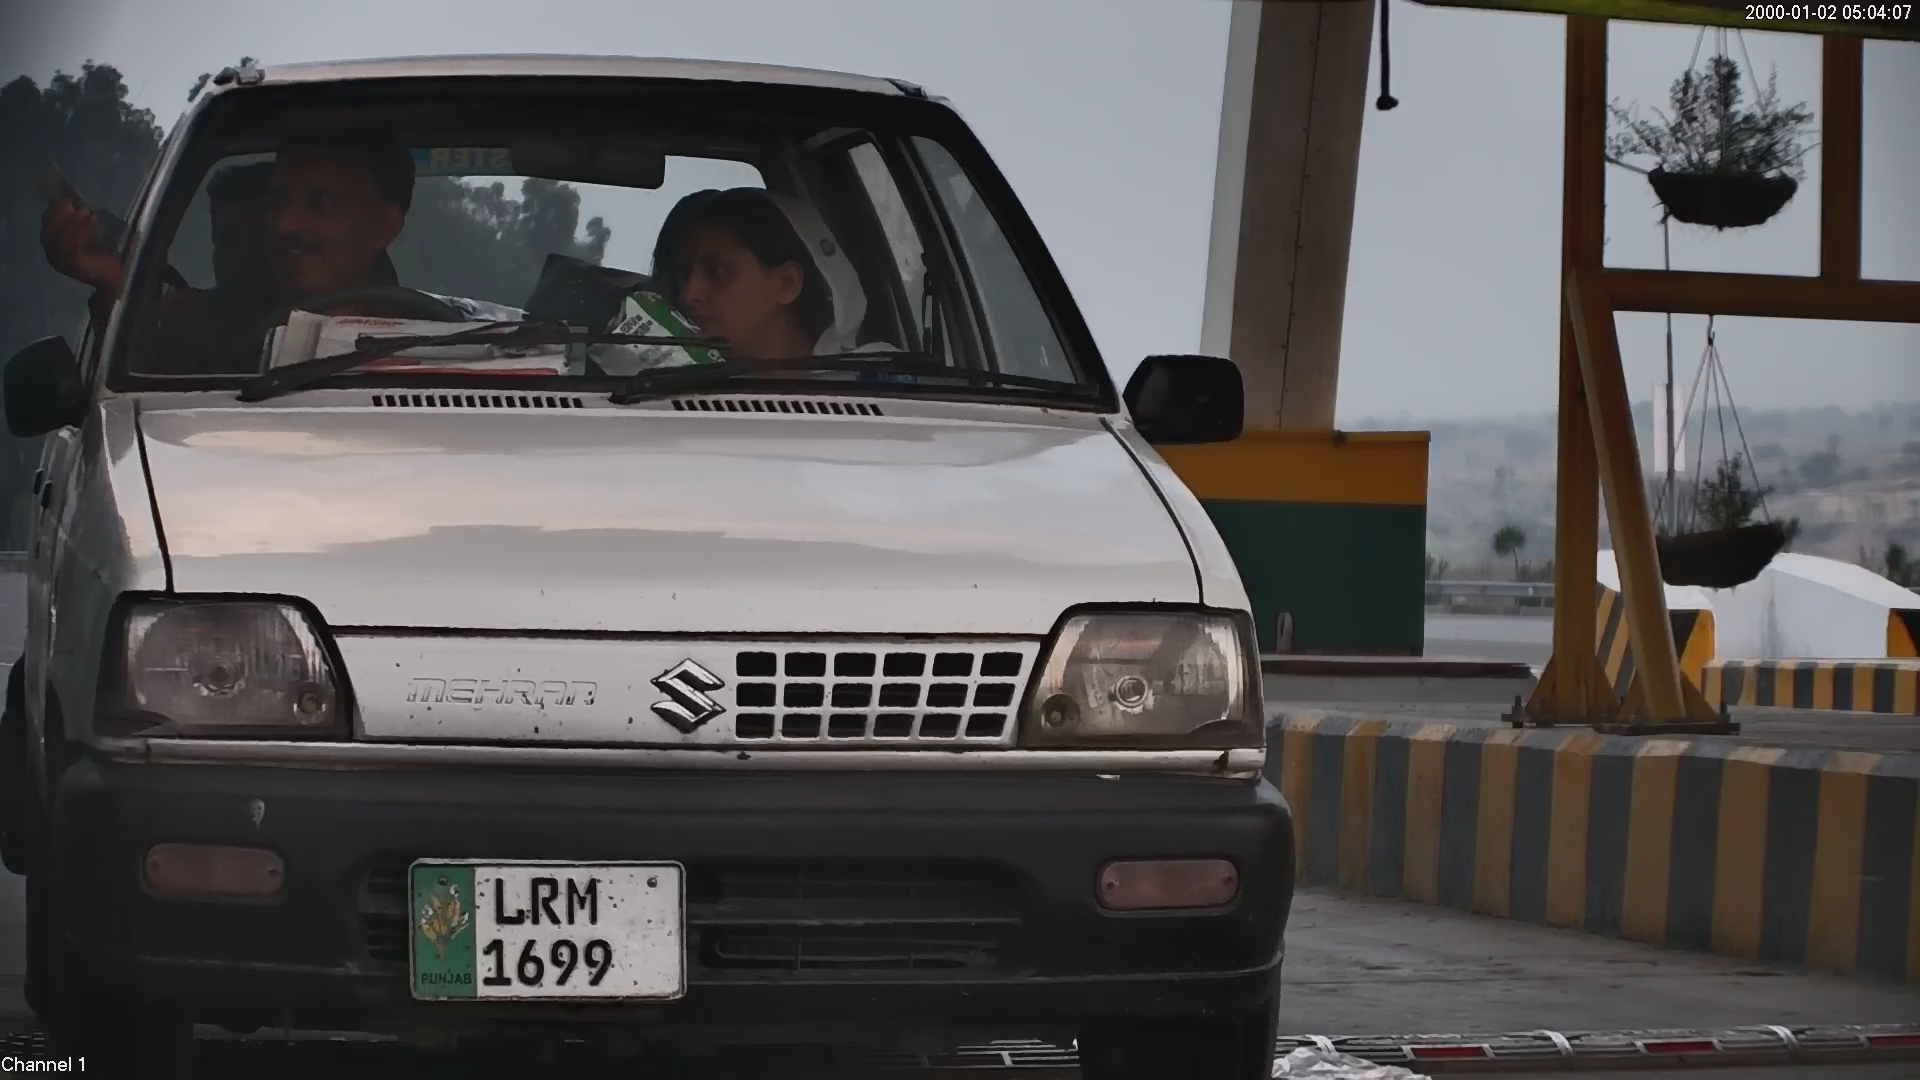Number_Plate: (398, 842, 698, 1016)
